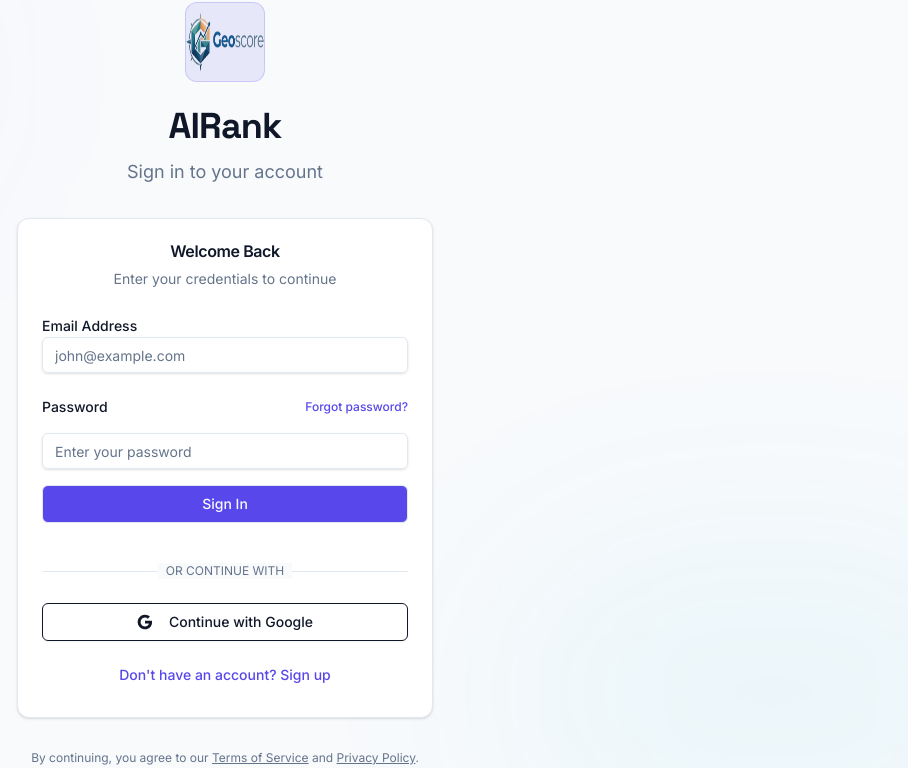
it: SignIn Component › should display error message on failed login
Type "test@example.com" into the field with test id "input-email".
click(225, 355); type("test@example.com")  # box [42,337,408,373]
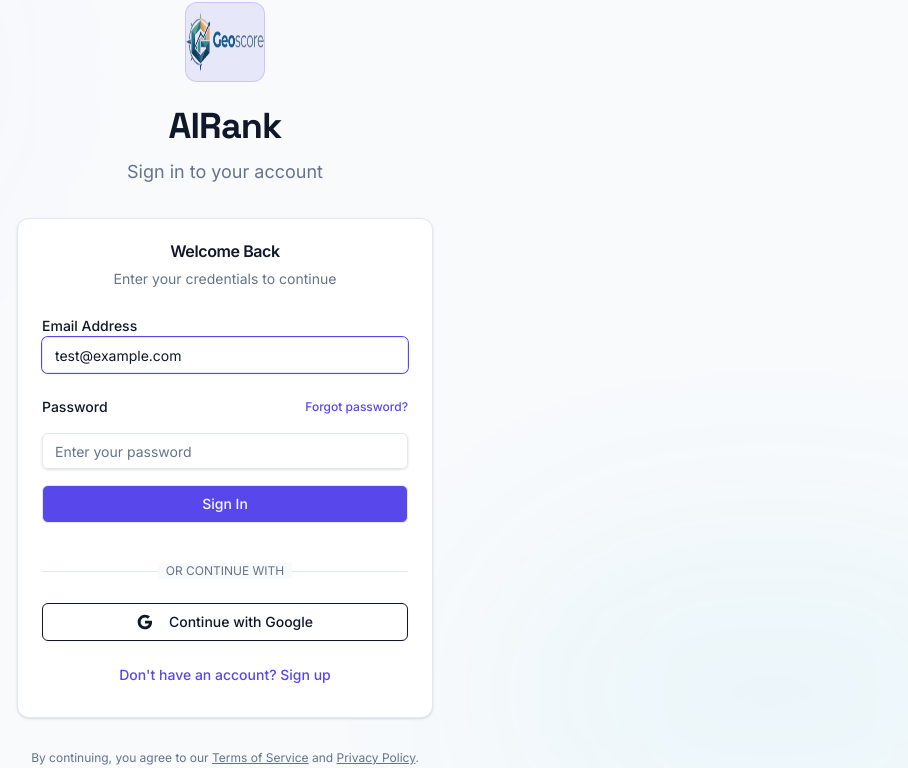
Type "wrongpassword" into the password field with test id "input-password".
click(225, 451); type("wrongpassword")  # box [42,433,408,469]
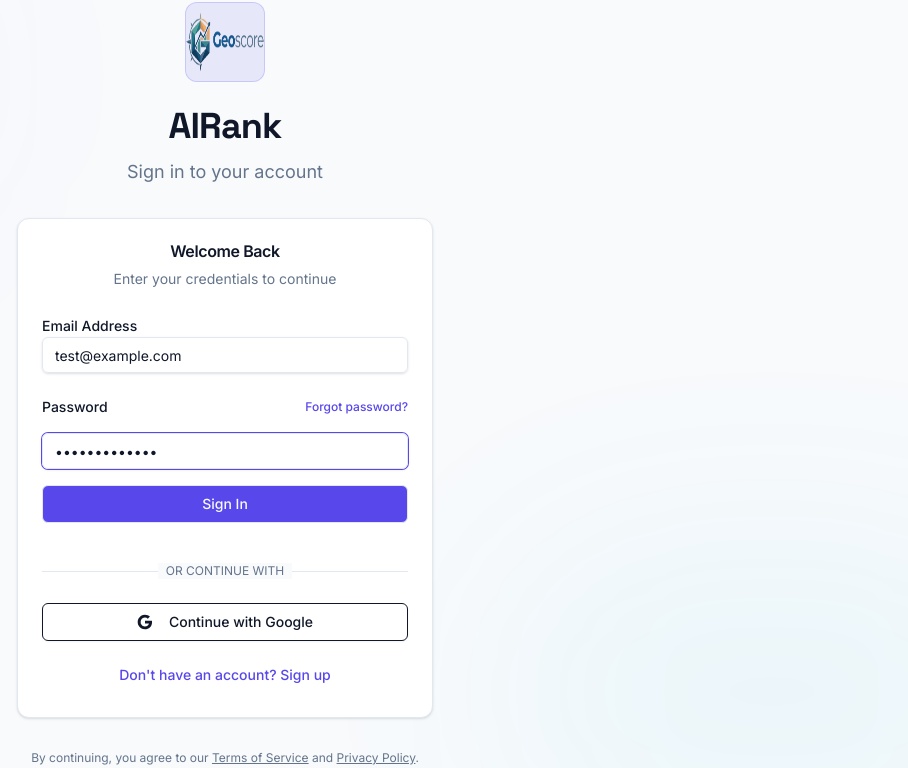
Click the button with test id "button-signin".
click(225, 504)  # box [42,485,408,523]
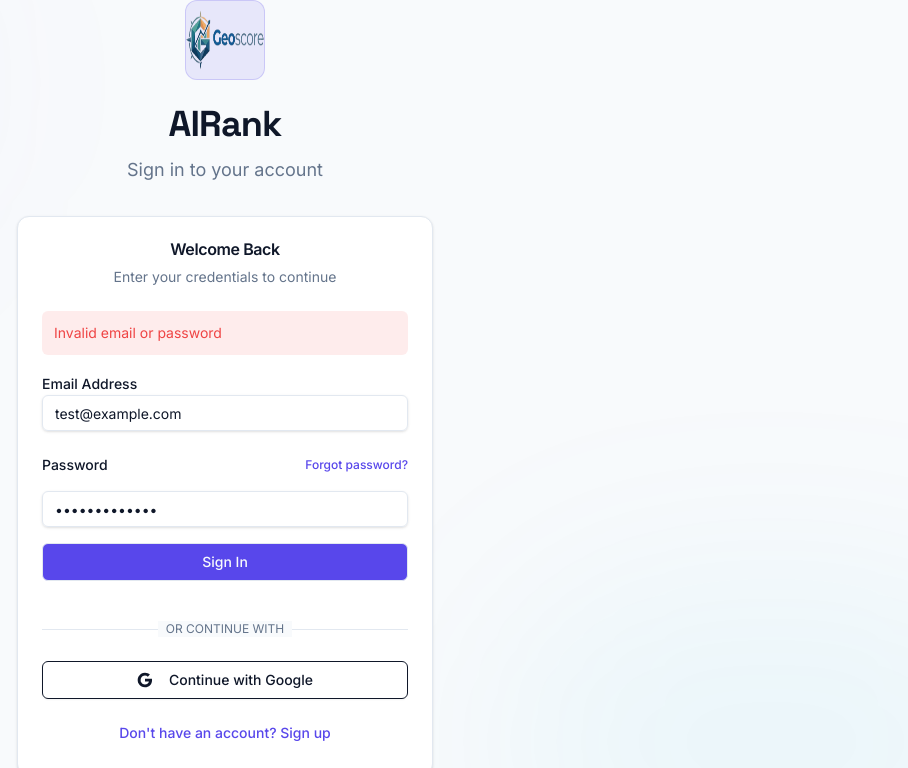
Expected: the text "Invalid email or password" is shown, [42,311,408,355]
Expected: the text with test id "text-signin-error" reads "Invalid email or password", [54,324,222,341]
